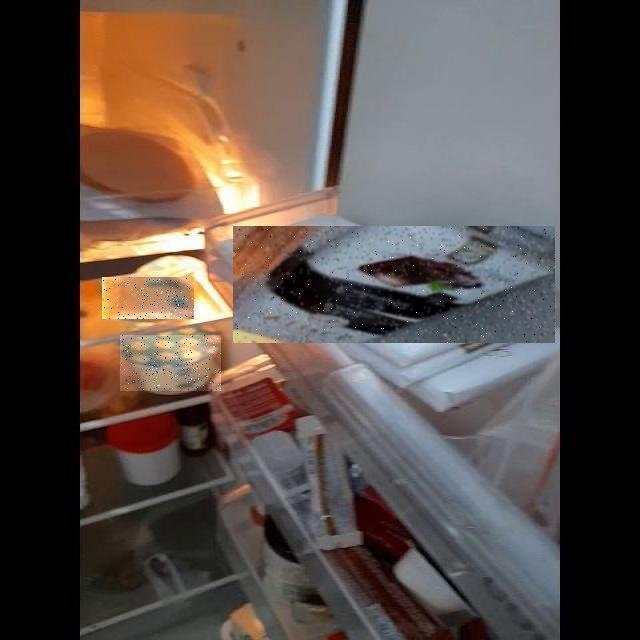Chocolate: (233, 226, 555, 343)
Yoghurt: (120, 335, 221, 391), (103, 277, 195, 319)
